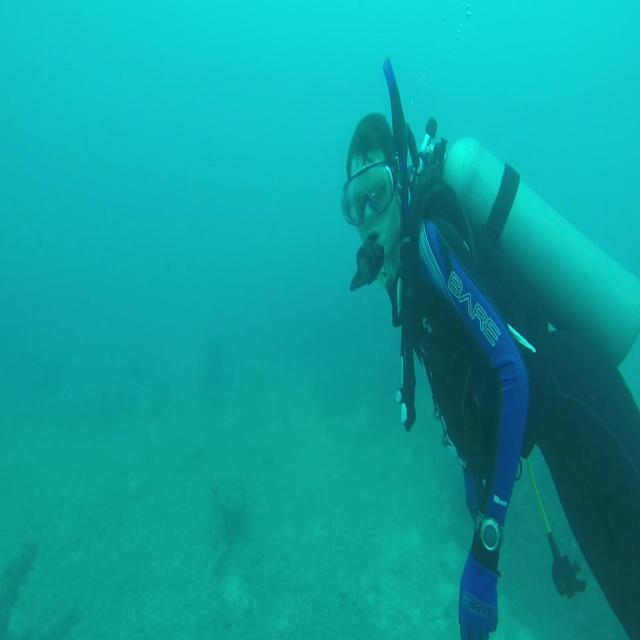human: (340, 68, 639, 638)
